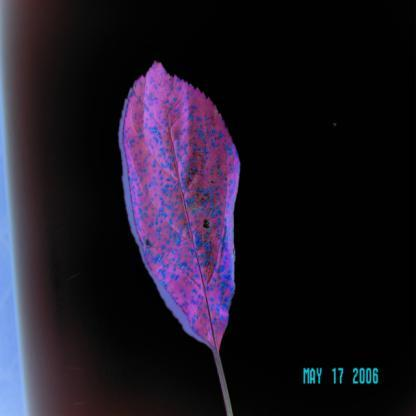Apple rust leaf: (117, 57, 257, 362)
